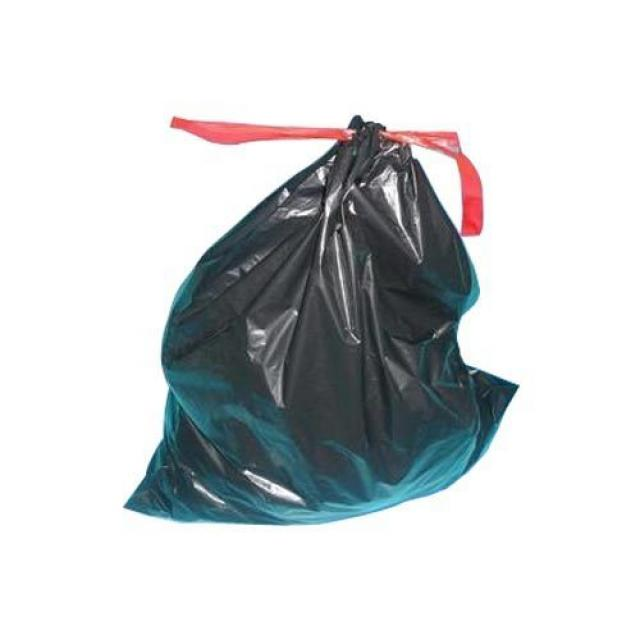plastic_bag: (129, 105, 501, 540)
